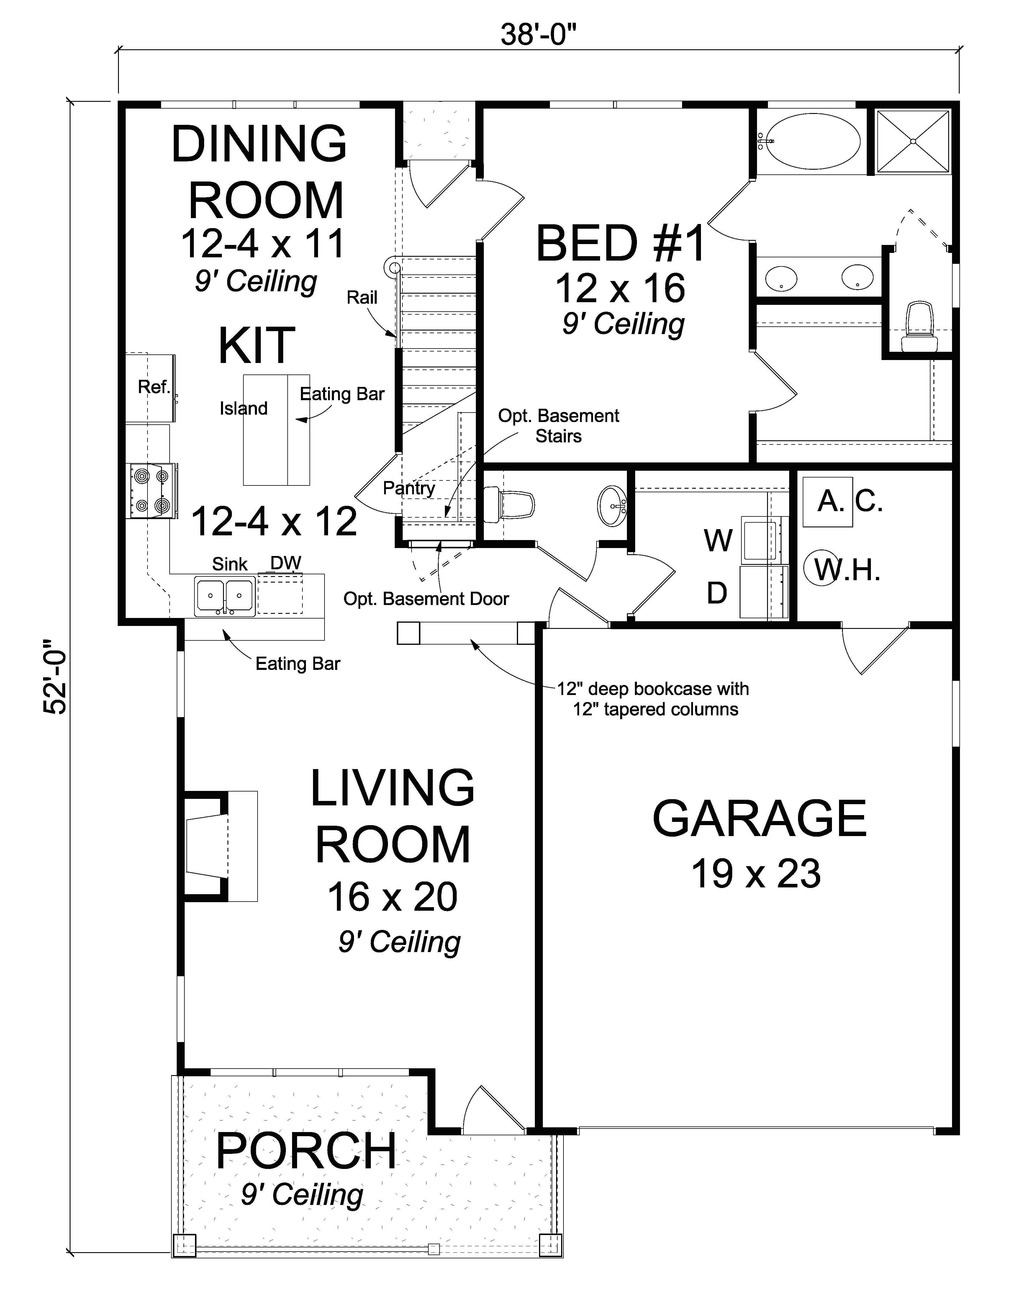door: (737, 342, 800, 416), (618, 545, 677, 622), (341, 446, 403, 518), (706, 168, 760, 249), (846, 616, 910, 681), (404, 157, 473, 215), (543, 584, 618, 634), (476, 178, 531, 241), (465, 1078, 521, 1138), (542, 542, 607, 584)
large_sink: (899, 288, 945, 354), (487, 487, 558, 528)
small_sink: (754, 251, 882, 301), (587, 482, 643, 535)
stairs: (395, 246, 475, 547)
tub: (741, 110, 885, 180)
twin_sink: (185, 562, 261, 626)
window: (199, 1061, 422, 1081), (169, 646, 195, 726), (942, 673, 968, 753), (545, 97, 685, 111), (177, 960, 184, 1048)
